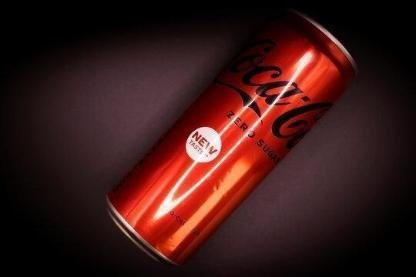Can: (104, 7, 360, 268)
